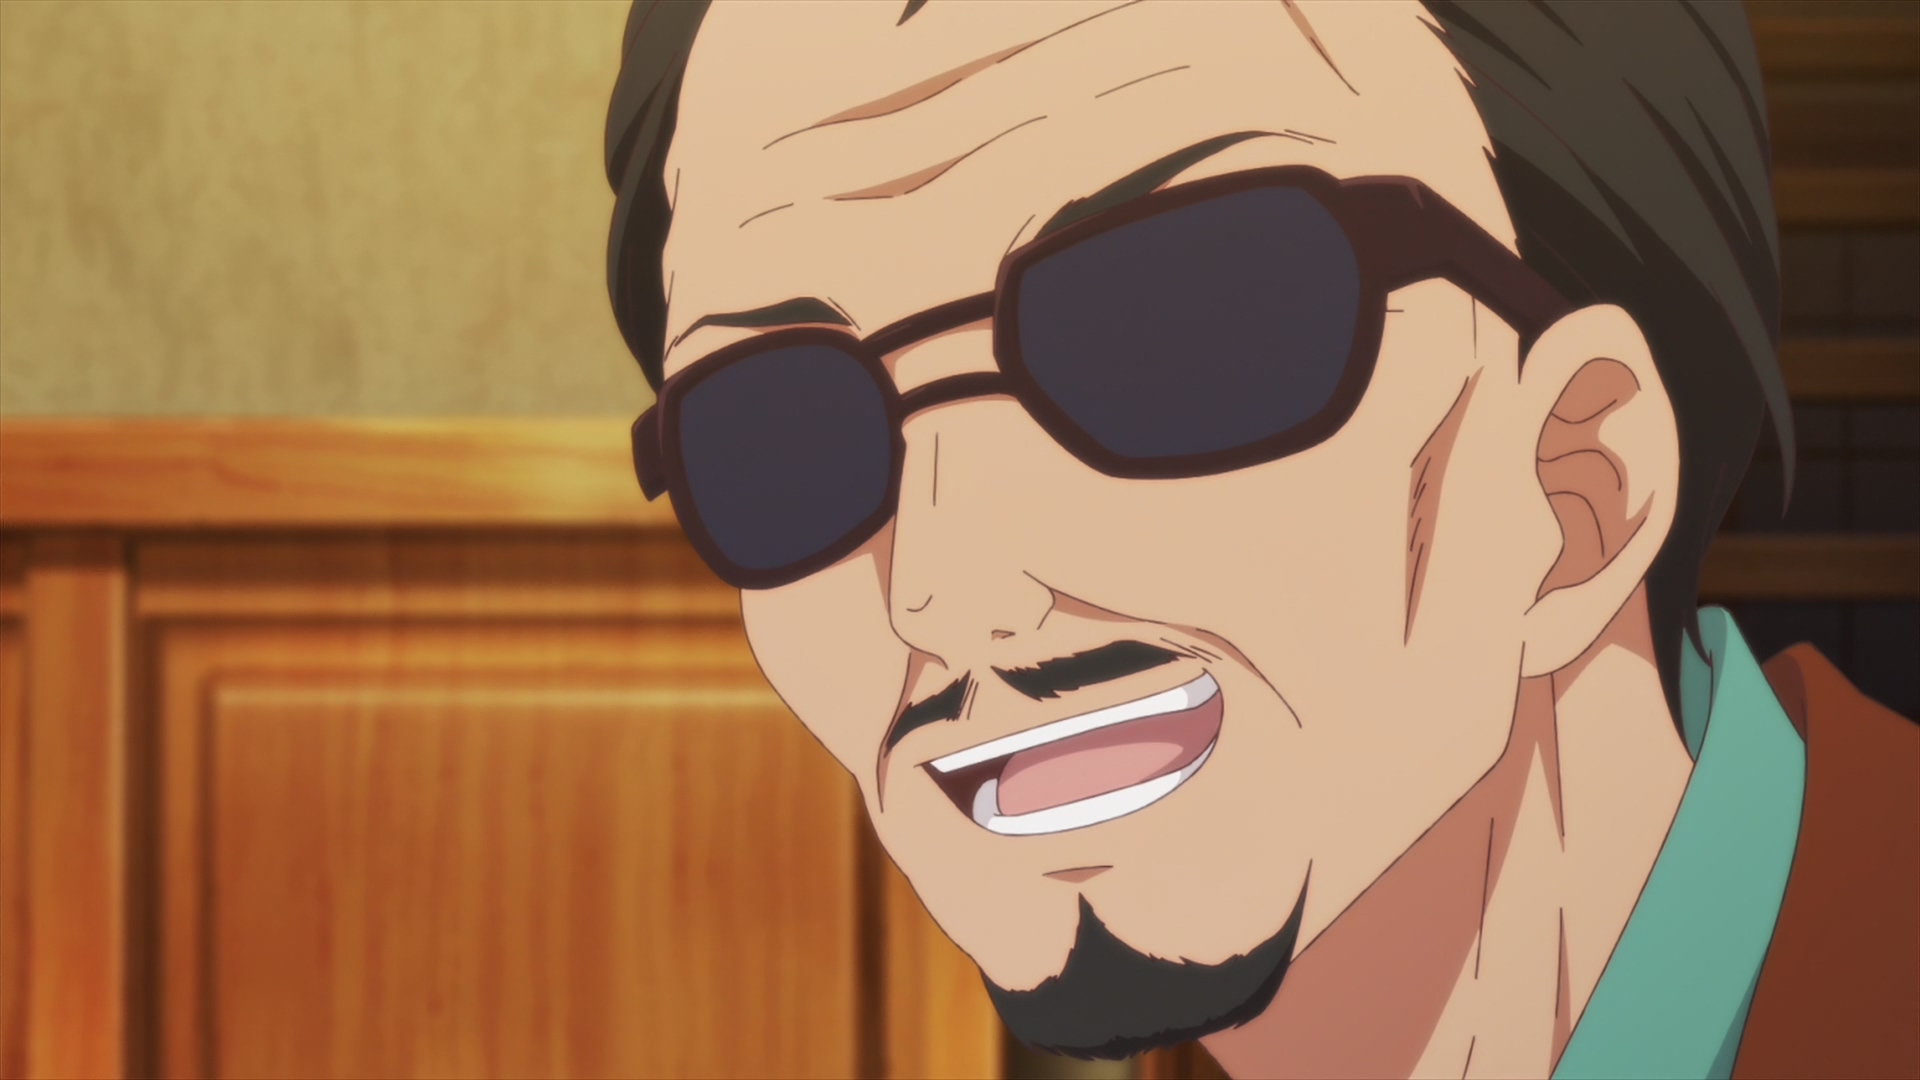其他: (601, 1, 1920, 1080)
